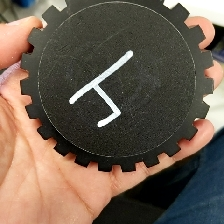gear: (18, 1, 215, 174)
